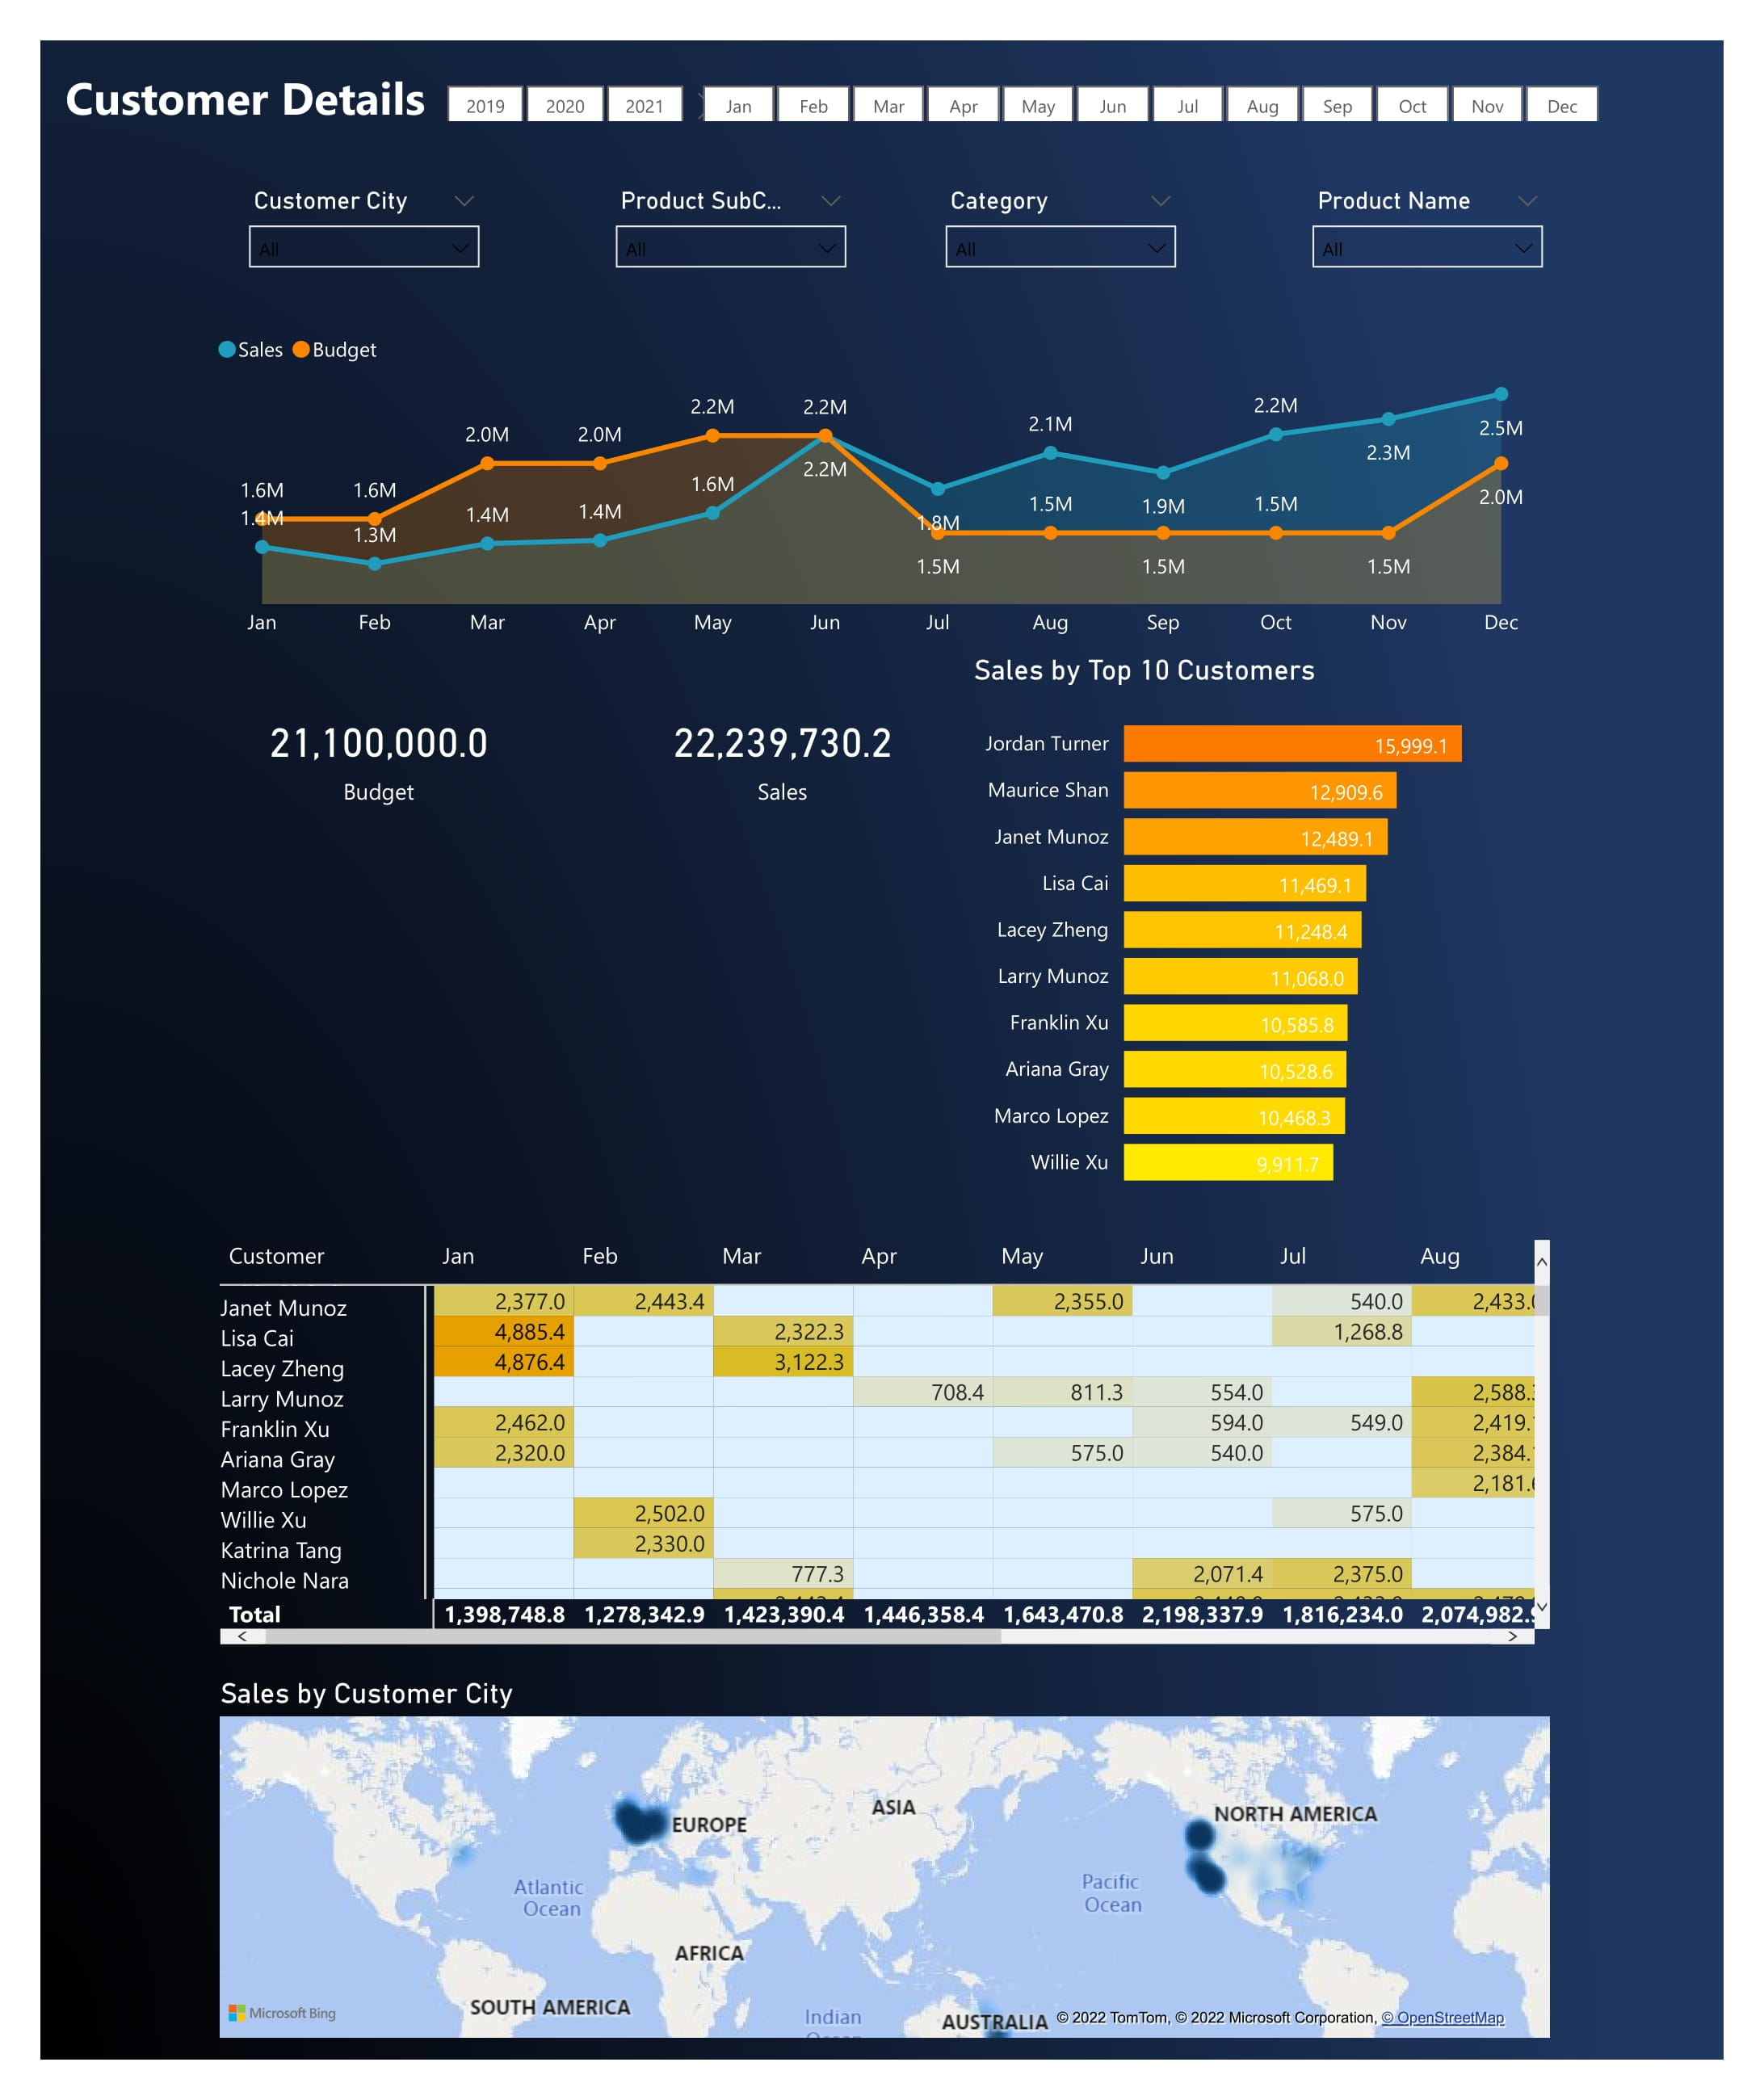

The dashboard page shown, as its layout file describes it:
{"tool":"powerbi","page":{"name":"Customer Details","canvas":[1000,1200],"ordinal":1},"visuals":[{"type":"textbox","box":[10,10,315.7,64.3],"z":0},{"type":"slicer","fields":{"Values":["DIM_Calendar.Year"]},"box":[216.4,20.9,190,28.2],"z":1000},{"type":"slicer","fields":{"Values":["DIM_Calendar.MonthShort"]},"box":[367.3,20.9,581.8,28.2],"z":2000},{"type":"slicer","fields":{"Values":["DIM_Customers.Customer City"]},"box":[114,81,157,63],"z":3000},{"type":"slicer","fields":{"Values":["DIM_Products.Product Category"]},"box":[528,81,157,63],"z":4000},{"type":"slicer","fields":{"Values":["DIM_Products.Product Name"]},"box":[745,81,157,63],"z":5000},{"type":"slicer","fields":{"Values":["DIM_Products.Product SubCategory"]},"box":[331,81,157,63],"z":6000},{"type":"areaChart","fields":{"Category":["DIM_Calendar.MonthShort"],"Y":["Analysis Metrics.Sales","Analysis Metrics.Budget"]},"box":[100,164,800,200],"z":7000},{"type":"card","fields":{"Values":["Analysis Metrics.Sales"]},"box":[354.3,390,174.3,70],"z":8000},{"type":"map","fields":{"Category":["DIM_Customers.Customer City"],"Size":["Analysis Metrics.Sales"]},"box":[102.9,972.9,800,220],"z":9000},{"type":"card","fields":{"Values":["Analysis Metrics.Budget"]},"box":[114.3,390,174.3,70],"z":10000},{"type":"pivotTable","fields":{"Rows":["DIM_Customers.Full Name"],"Columns":["DIM_Calendar.MonthShort"],"Values":["Analysis Metrics.Sales"]},"box":[102.9,708.6,800,250],"z":11000},{"type":"barChart","title":"Sales by Top 10 Customers","fields":{"Category":["DIM_Customers.Full Name"],"Y":["Analysis Metrics.Sales"]},"box":[550,364,350,330],"z":12000}]}

Visuals, with their boxes on the page's 1000x1200 design canvas (x1, y1, x2, y2). These are canvas units, not pixel positions in the 1764x2100 screenshot, which may show the page scaled, cropped or inside an application window:
textbox: [10,10,326,74]
slicer - DIM_Calendar.Year: [216,21,406,49]
slicer - DIM_Calendar.MonthShort: [367,21,949,49]
slicer - DIM_Customers.Customer City: [114,81,271,144]
slicer - DIM_Products.Product Category: [528,81,685,144]
slicer - DIM_Products.Product Name: [745,81,902,144]
slicer - DIM_Products.Product SubCategory: [331,81,488,144]
areaChart - DIM_Calendar.MonthShort x Analysis Metrics.Sales: [100,164,900,364]
card - Analysis Metrics.Sales: [354,390,529,460]
map - DIM_Customers.Customer City x Analysis Metrics.Sales: [103,973,903,1193]
card - Analysis Metrics.Budget: [114,390,289,460]
pivotTable - DIM_Customers.Full Name x DIM_Calendar.MonthShort: [103,709,903,959]
"Sales by Top 10 Customers" barChart: [550,364,900,694]
